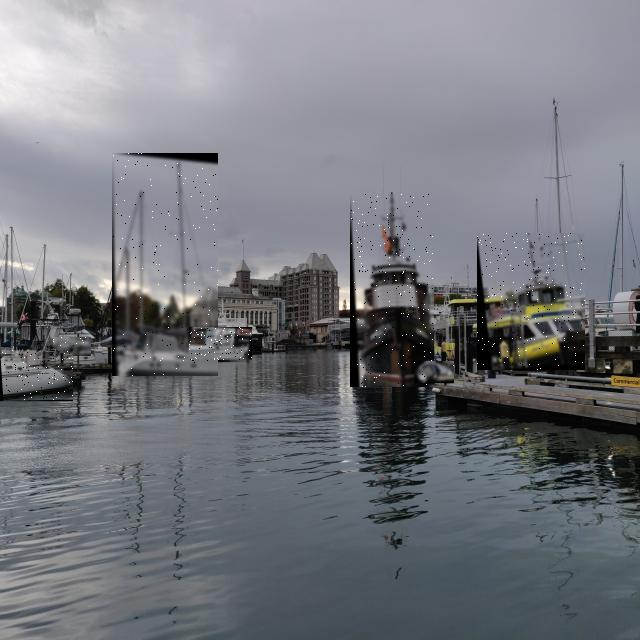boat: (112, 153, 218, 376), (350, 194, 434, 387), (477, 233, 585, 370), (0, 349, 73, 401), (189, 328, 252, 362)
skiff: (415, 361, 454, 383), (53, 337, 91, 356)
